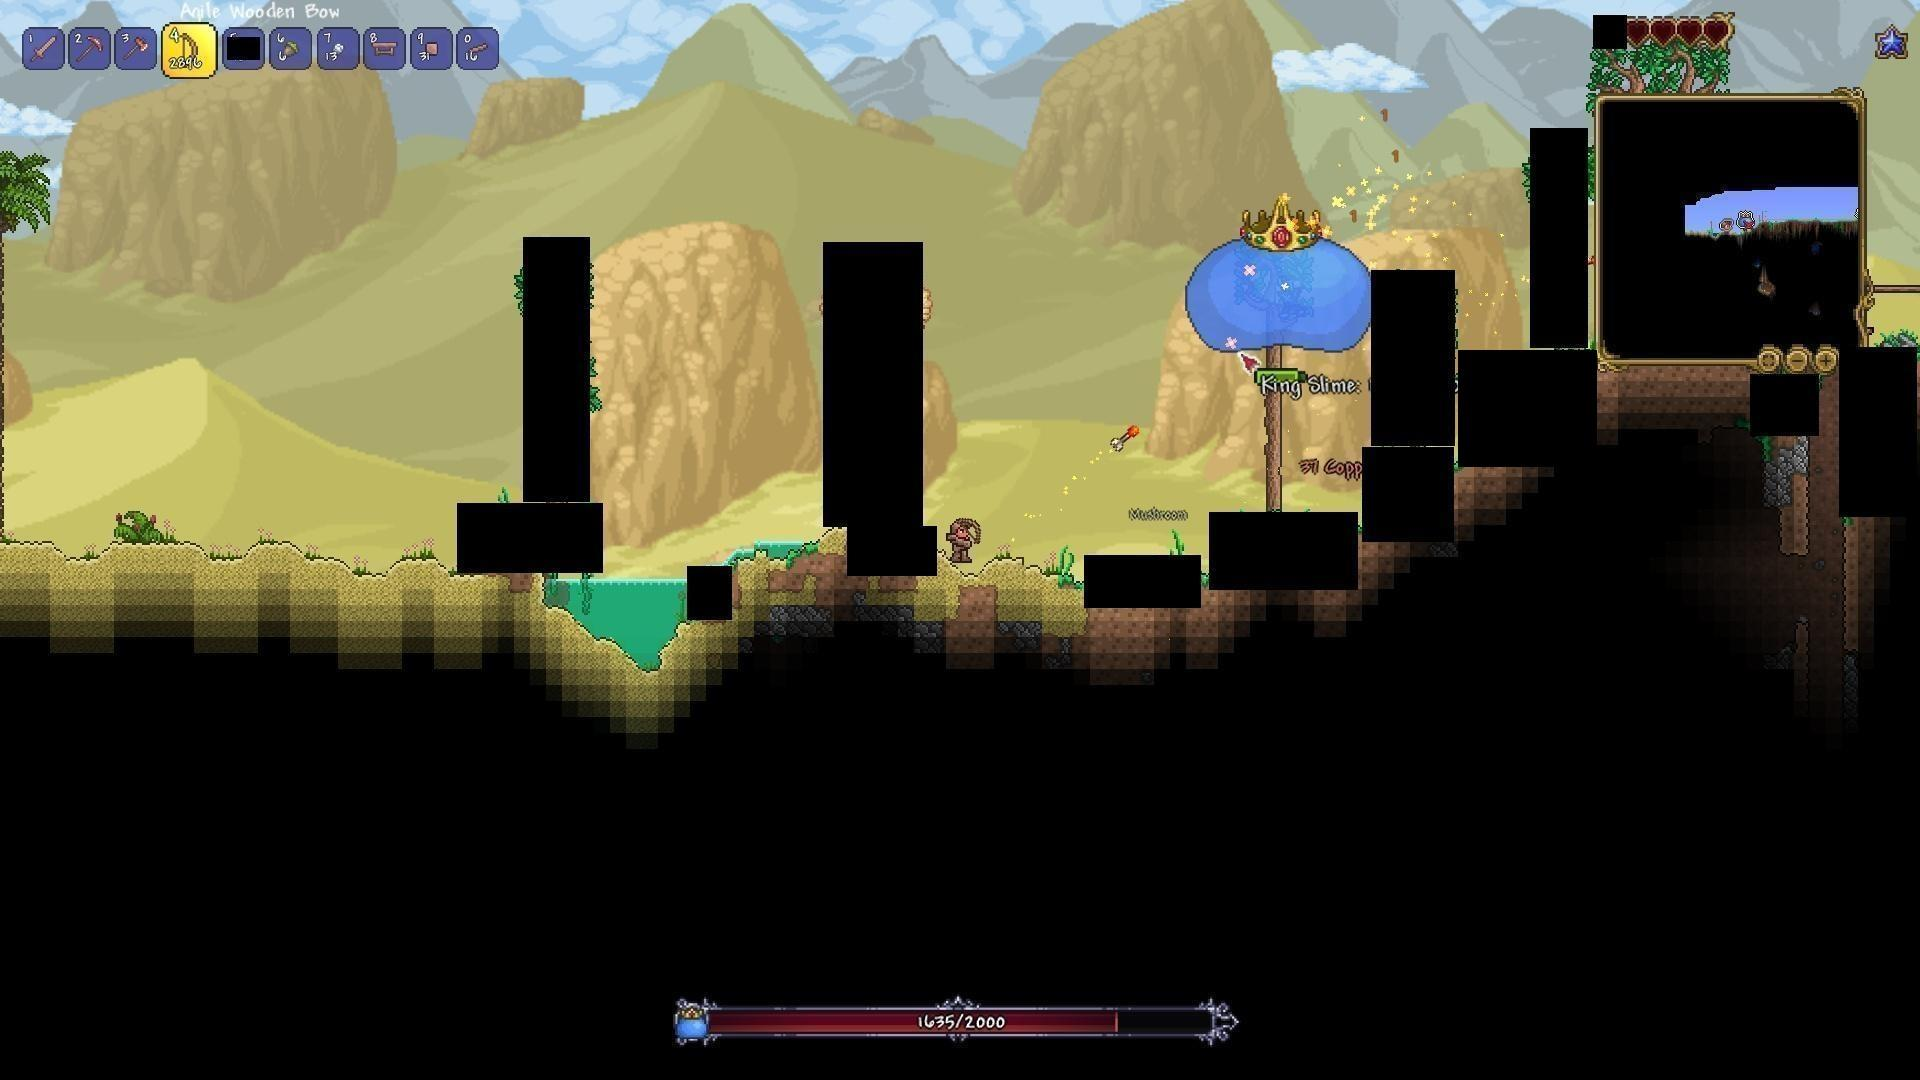dirt: (785, 543, 816, 580)
workbench: (367, 34, 404, 59)
